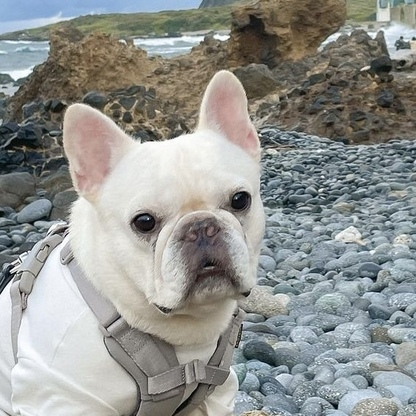bulldog: (7, 67, 268, 408)
